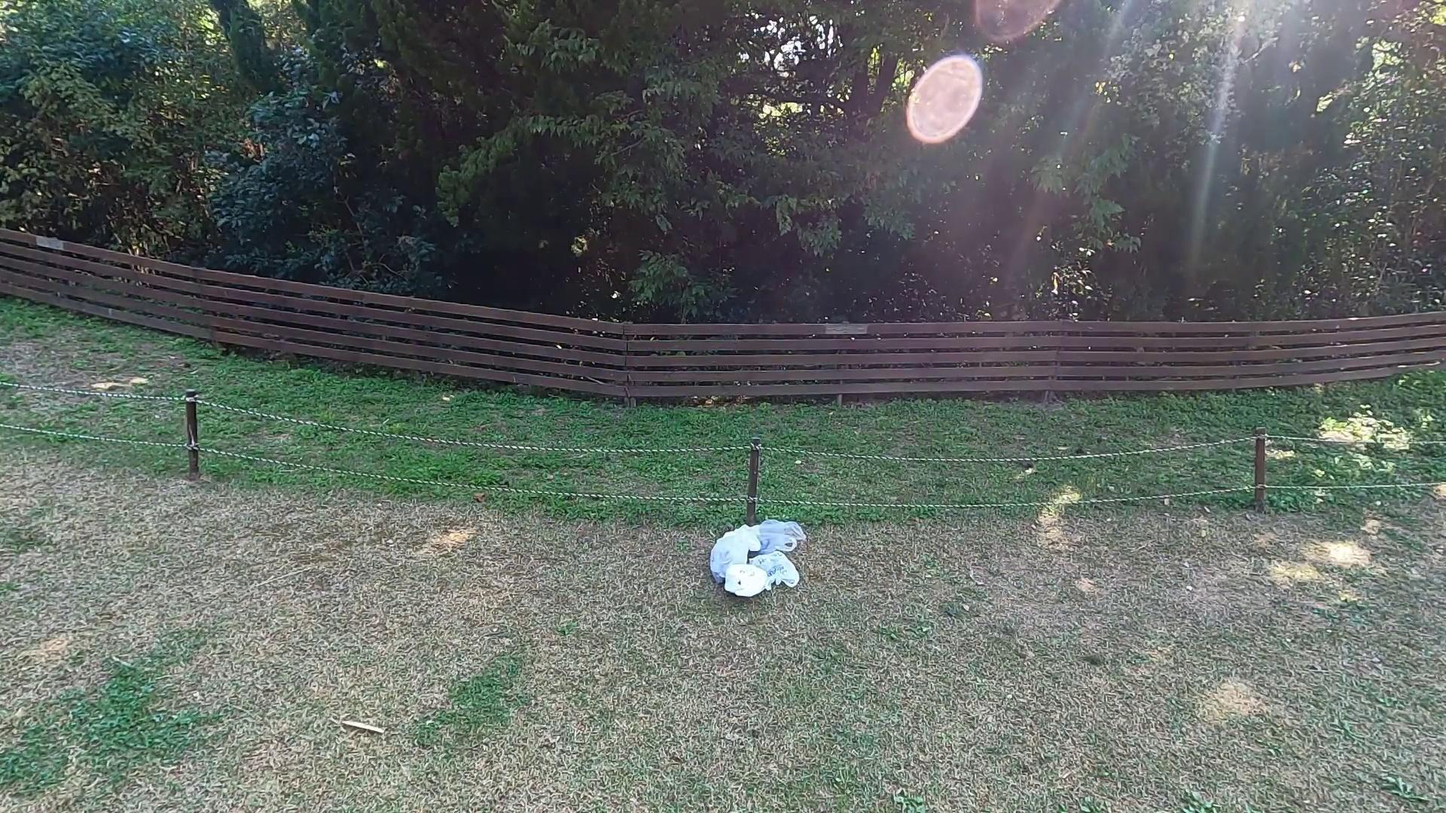trash: (744, 515, 816, 564), (706, 523, 762, 584), (745, 550, 802, 598), (718, 562, 775, 602)
